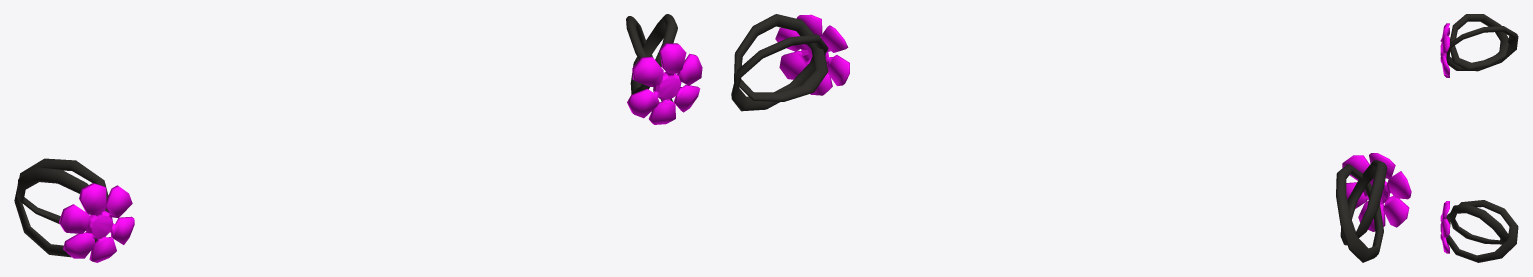
File: Hair Ties Front.fbx
3 views of the same model, side by side, from view 1: azimuth 30°, elevation 25°; view 2: azimuth 150°, elevation 25°; view 3: azimuth 270°, elevation 25° (orthographic). The views are drawn at different scales.
Parts seen in each view (by area): view 1: Hair Tie; view 2: Hair Tie; view 3: Hair Tie.
Part boxes in pixels (x1=…): Hair Tie: x1=14, y1=14, x2=702, y2=262; Hair Tie: x1=731, y1=14, x2=1411, y2=262; Hair Tie: x1=1440, y1=14, x2=1518, y2=262.
Size of the model in its own units: 14.54 by 1.95 by 2.38.
